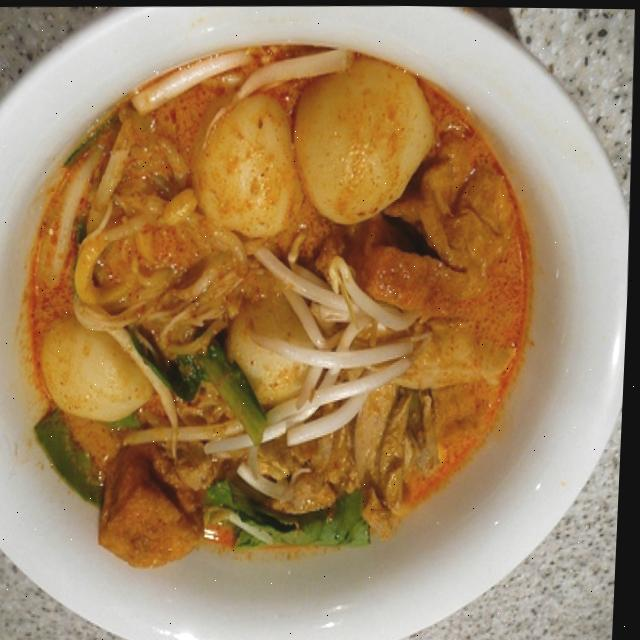面条主食: (0, 31, 624, 615)
